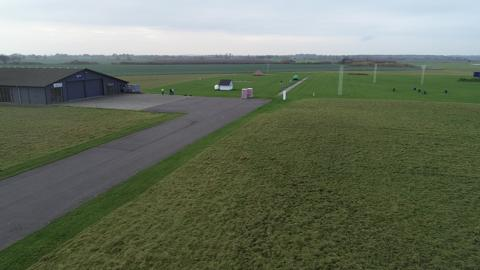RockwoolPallet: (247, 88, 253, 98)
